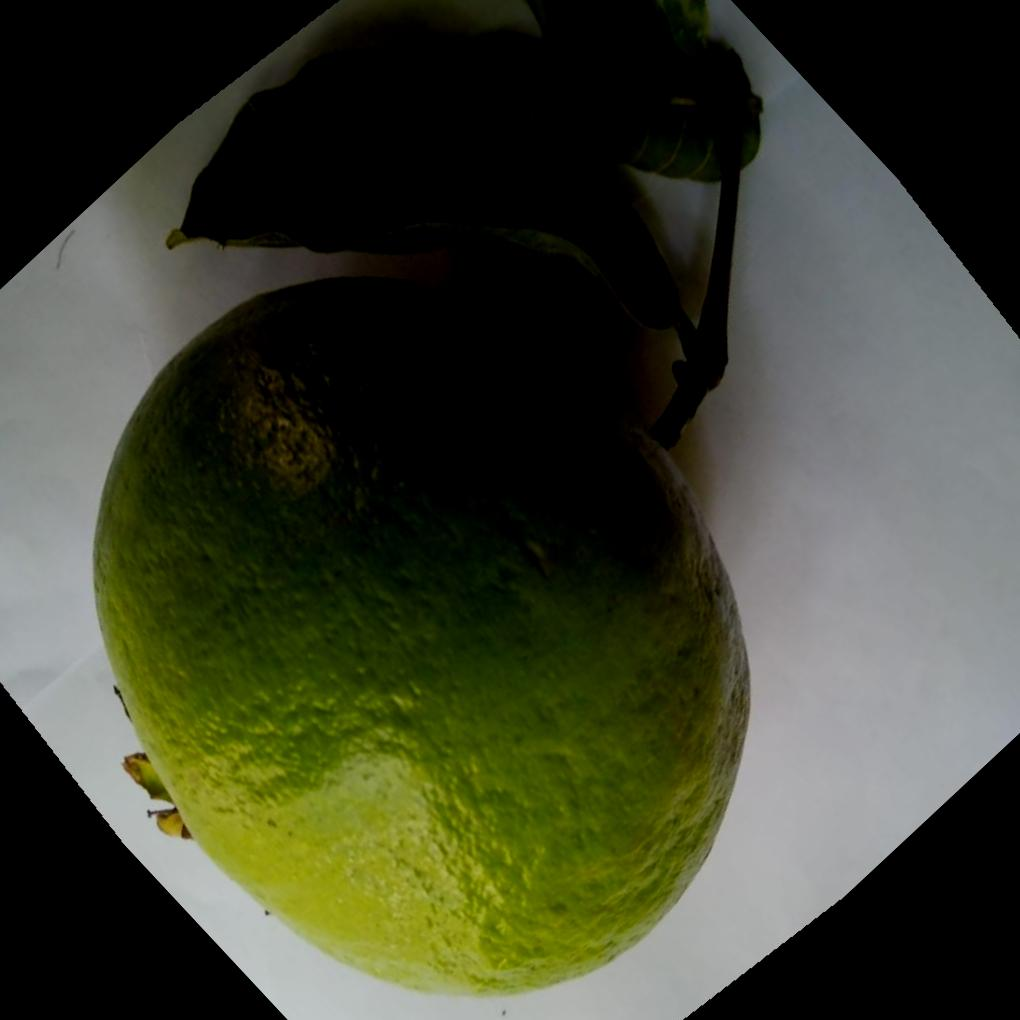FreshGuava: (91, 279, 753, 1003)
